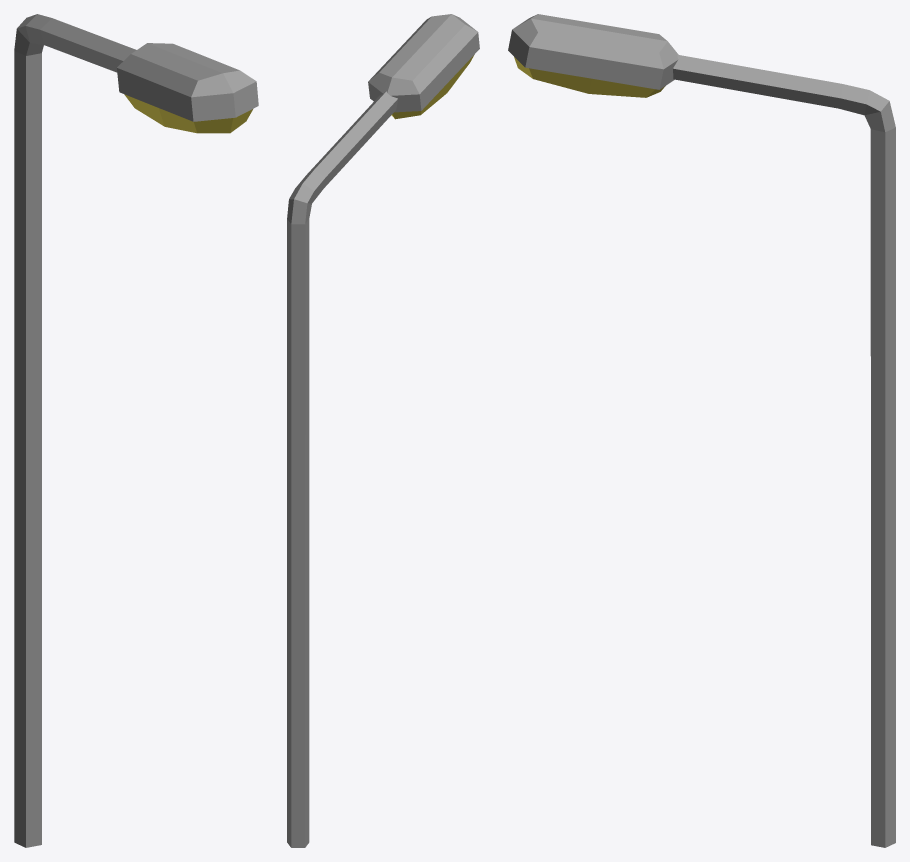
The model's file is pillar_005.fbx.
The picture shows the model from 3 angles, left to right: view 1: azimuth 30°, elevation 25°; view 2: azimuth 150°, elevation 25°; view 3: azimuth 270°, elevation 25°; orthographic projection. The views are drawn at different scales.
Parts seen in each view (by area): view 1: pillar_005; view 2: pillar_005; view 3: pillar_005.
Boxes of the visible parts, box(x1,y1,x2,y2) form: pillar_005: box(14, 14, 258, 847); pillar_005: box(287, 14, 479, 847); pillar_005: box(508, 14, 895, 847).
Bounding box in the file's own units: 39.04 × 518 × 221.
